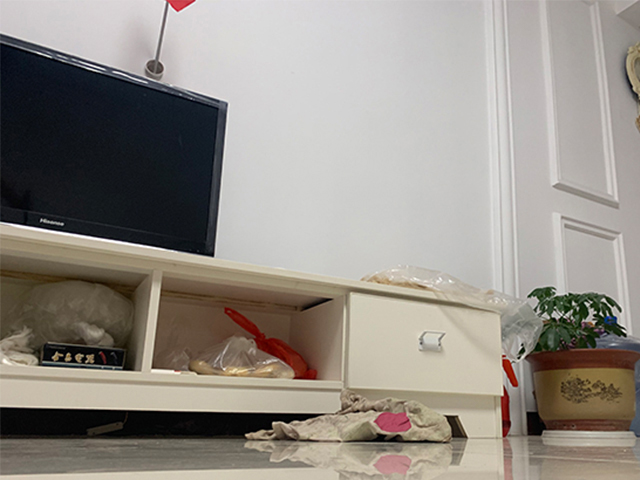cabinet: (1, 220, 506, 438)
